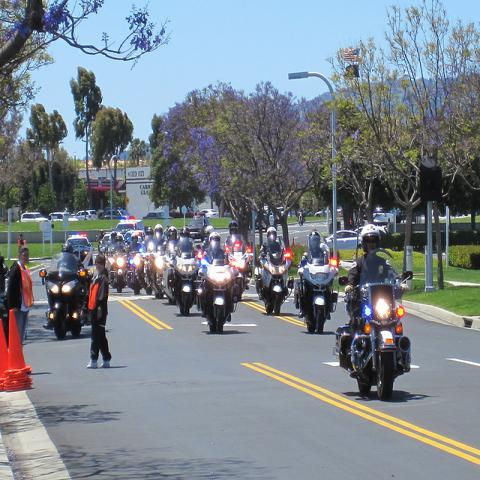car: (62, 235, 92, 266), (326, 229, 362, 252), (188, 216, 209, 241), (19, 210, 48, 222), (142, 211, 174, 220), (314, 205, 332, 218), (76, 210, 97, 221), (51, 212, 72, 222), (106, 210, 127, 220), (201, 208, 219, 218)
motorcycle: (334, 248, 414, 402), (40, 251, 91, 340), (196, 238, 244, 332), (294, 253, 340, 334), (252, 235, 295, 316), (169, 250, 201, 313), (143, 230, 168, 299), (226, 244, 254, 303), (164, 240, 178, 308), (126, 250, 146, 295), (110, 250, 128, 294), (297, 210, 306, 227)
